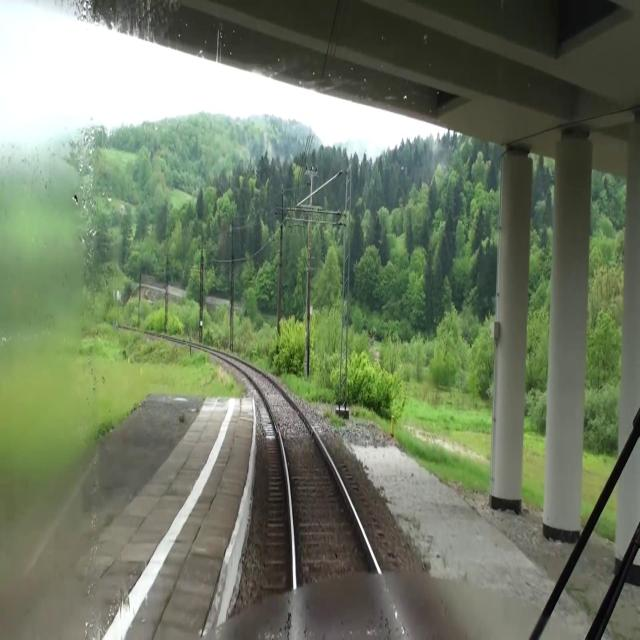rail-track: (240, 364, 402, 639)
